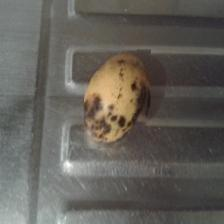Mango Semirotten: (85, 49, 152, 150)
